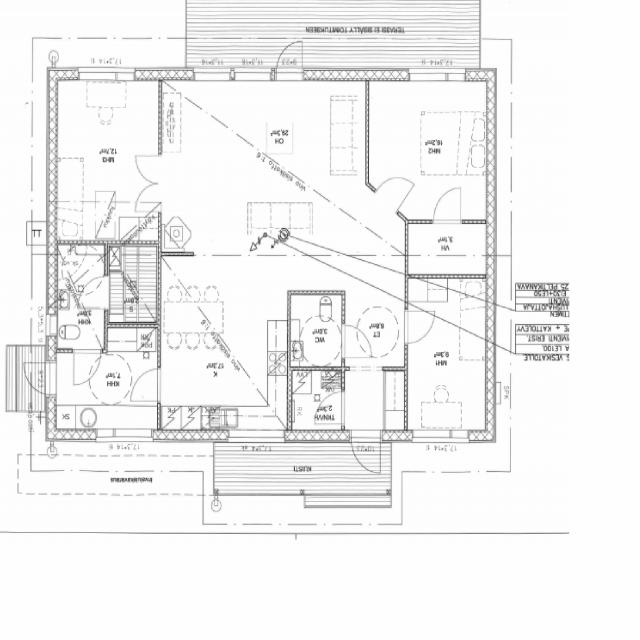door: (375, 166, 413, 212), (351, 431, 380, 478), (20, 364, 58, 396), (277, 38, 302, 81), (78, 277, 109, 309), (404, 311, 434, 344), (130, 369, 160, 402), (434, 188, 461, 224), (341, 326, 371, 358), (315, 392, 345, 424), (74, 350, 101, 384), (134, 184, 160, 212), (134, 156, 160, 184)
